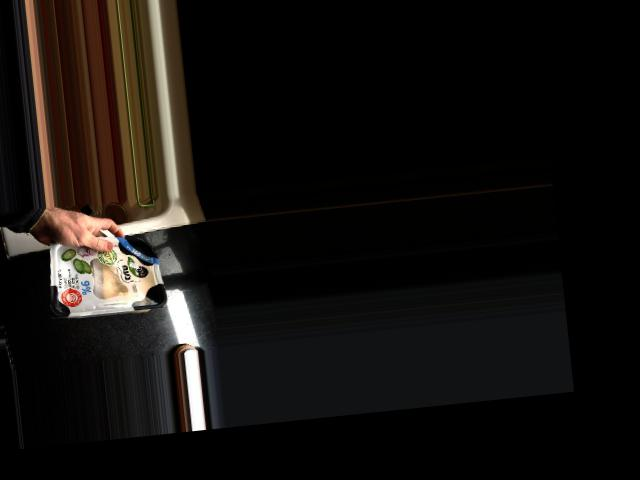cheese: (43, 223, 165, 319)
